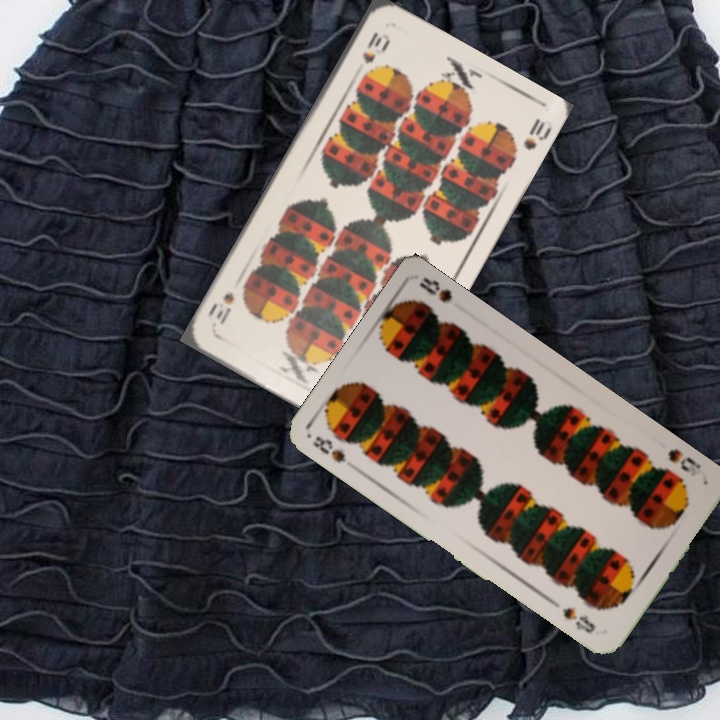S10: (358, 28, 385, 67)
S8: (664, 444, 707, 481), (308, 431, 348, 466)
